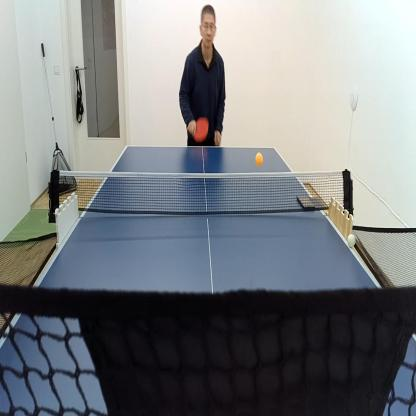Ball: (254, 150, 264, 168), (347, 233, 357, 250)
